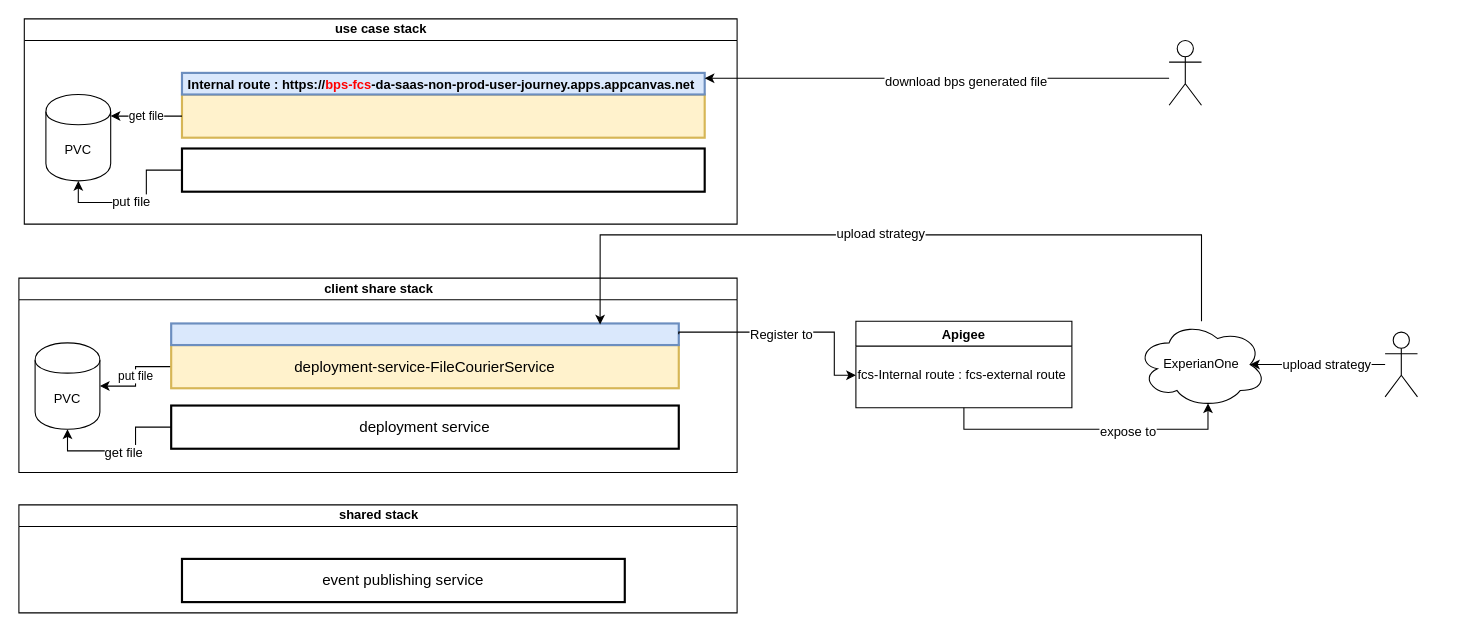
Image size: 1476x632. Some labels were removed from this diagram. Here are the shapes that lost their labels. From the top down, the centre of each, then its label:
(1185,72): Experian Administrator user
(442,115): BPS-FileCourierService
(442,169): BPS
(424,334): Internal route: https://ds-fcs-da-saas-non-prod-client-shared.apps.appcanvas.net
(1401,364): EO system user
